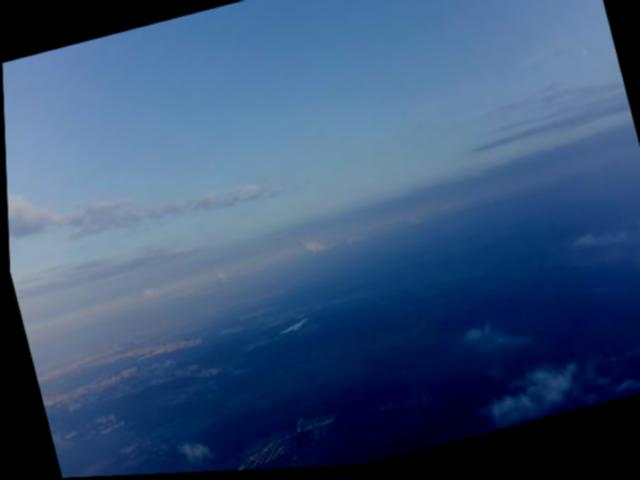uav: (272, 311, 307, 342)
